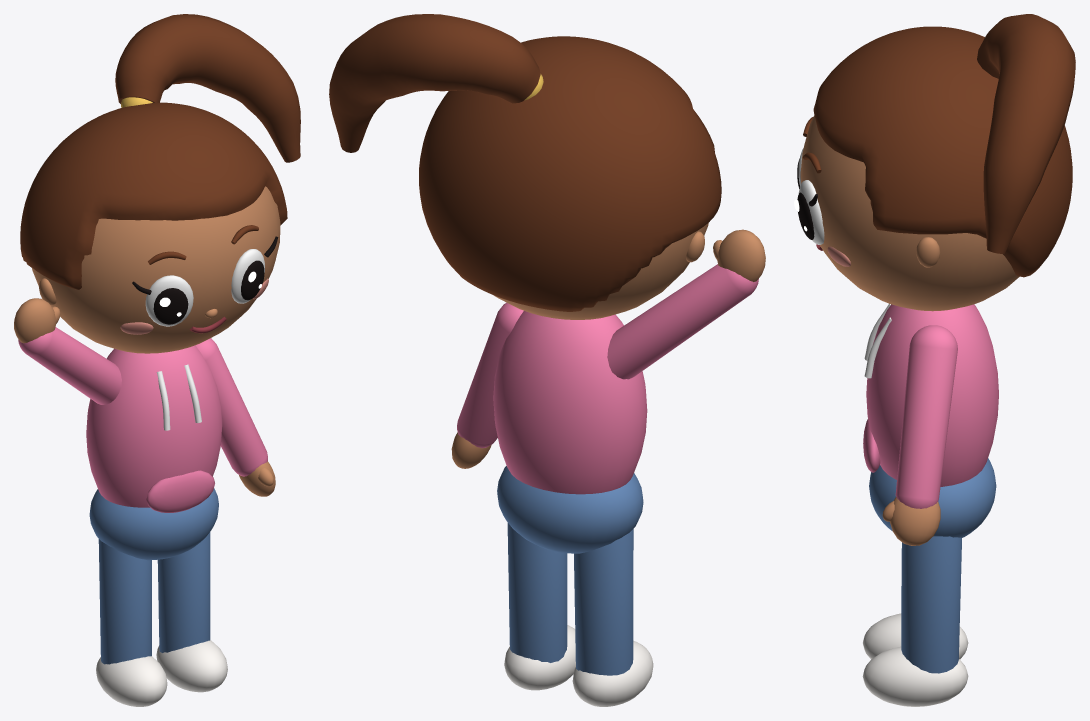
The model's file is teenager.glb.
3 views of the same model, side by side, from view 1: azimuth 30°, elevation 25°; view 2: azimuth 150°, elevation 25°; view 3: azimuth 270°, elevation 25° (orthographic). The views are drawn at different scales.
Parts seen in each view (by area): view 1: teenager; view 2: teenager; view 3: teenager.
Part boxes in pixels (x1,y1,x2,y2): teenager: (14, 14, 300, 706); teenager: (329, 14, 765, 706); teenager: (794, 14, 1075, 706).
Bounding box in the file's own units: 0.7898 × 1.4 × 0.5159.
